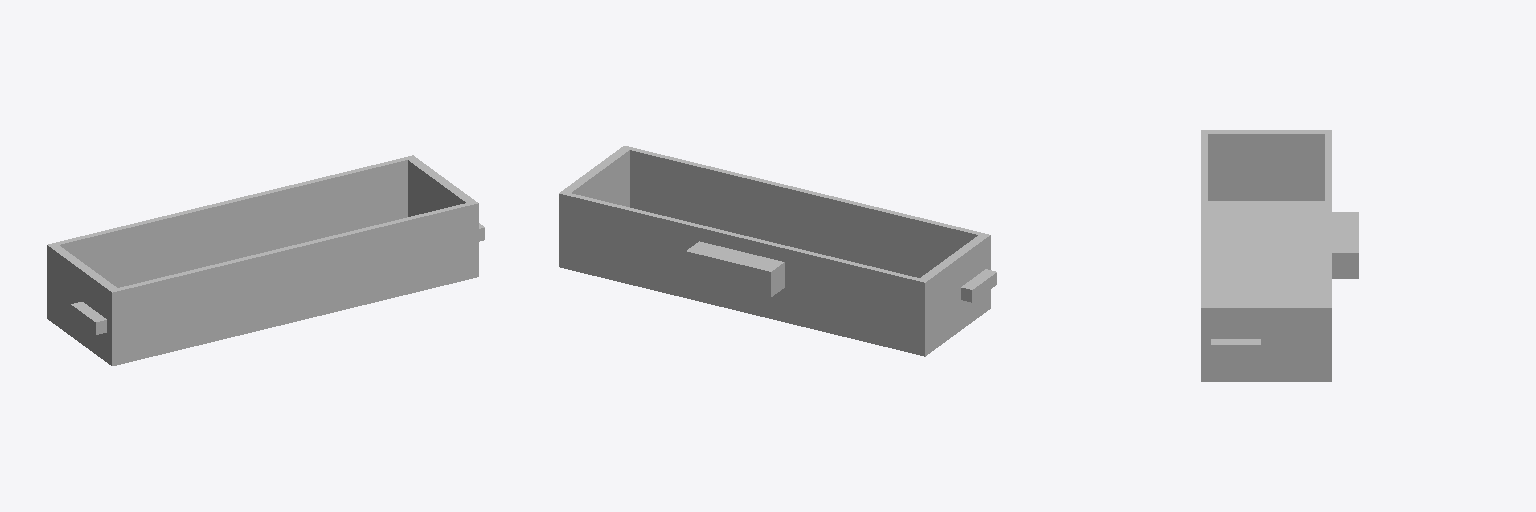
The model's file is Drawer2.obj.
3 renders of one model, left to right at view 1: azimuth 30°, elevation 25°; view 2: azimuth 150°, elevation 25°; view 3: azimuth 270°, elevation 25°, orthographic.
Visible parts, largest first — view 1: Drawer2; view 2: Drawer2; view 3: Drawer2.
Boxes of the visible parts, x1=… form: Drawer2: x1=47, y1=155, x2=484, y2=365; Drawer2: x1=559, y1=146, x2=996, y2=356; Drawer2: x1=1201, y1=130, x2=1358, y2=381.
Bounding box in the file's own units: 9.97 × 1.81 × 3.5.